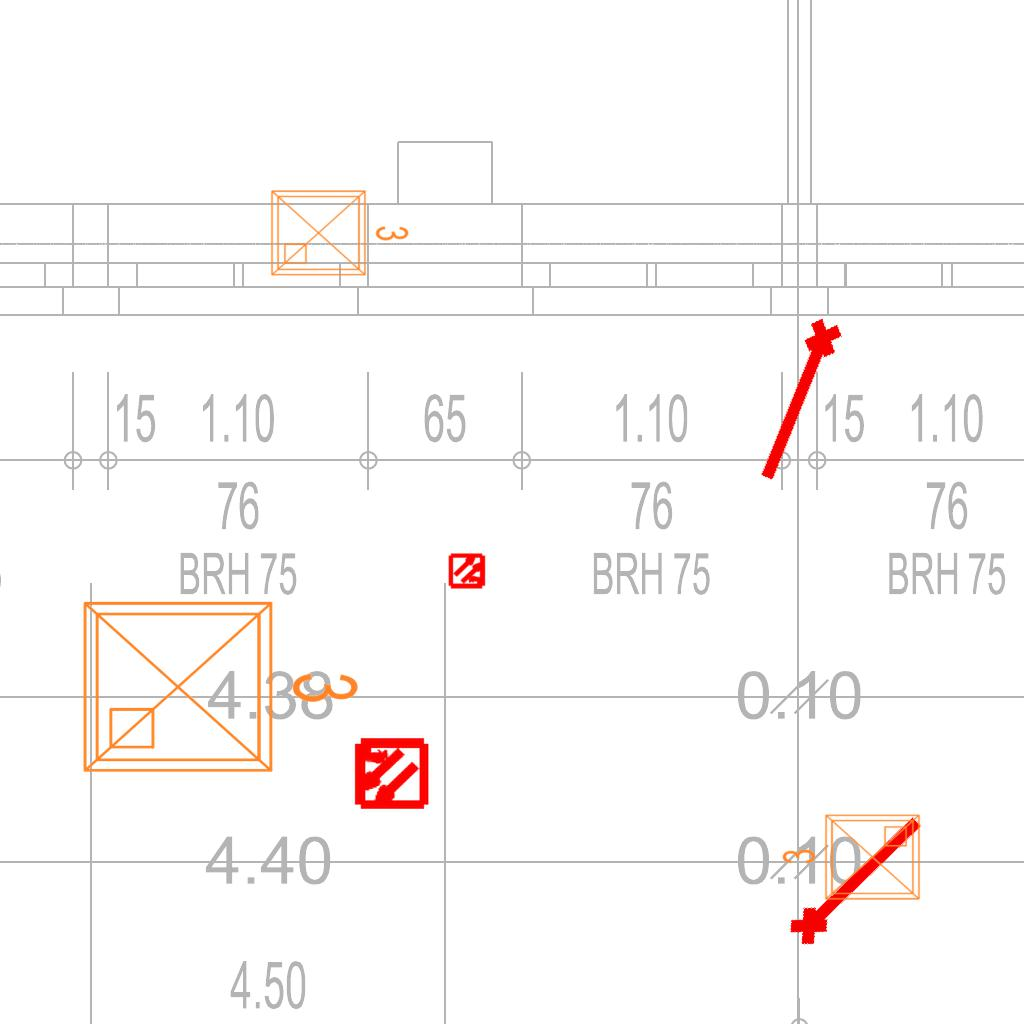ASR_Ansaugoeffnung: (776, 799, 936, 955), (745, 311, 855, 493)
Einbaudownlights_LED_Konferenzraeume: (69, 579, 369, 787), (264, 179, 414, 283), (777, 807, 927, 911)
OT_Multisensormelder_(Kombination_RMO_WMD): (333, 717, 446, 830), (440, 543, 496, 599)
